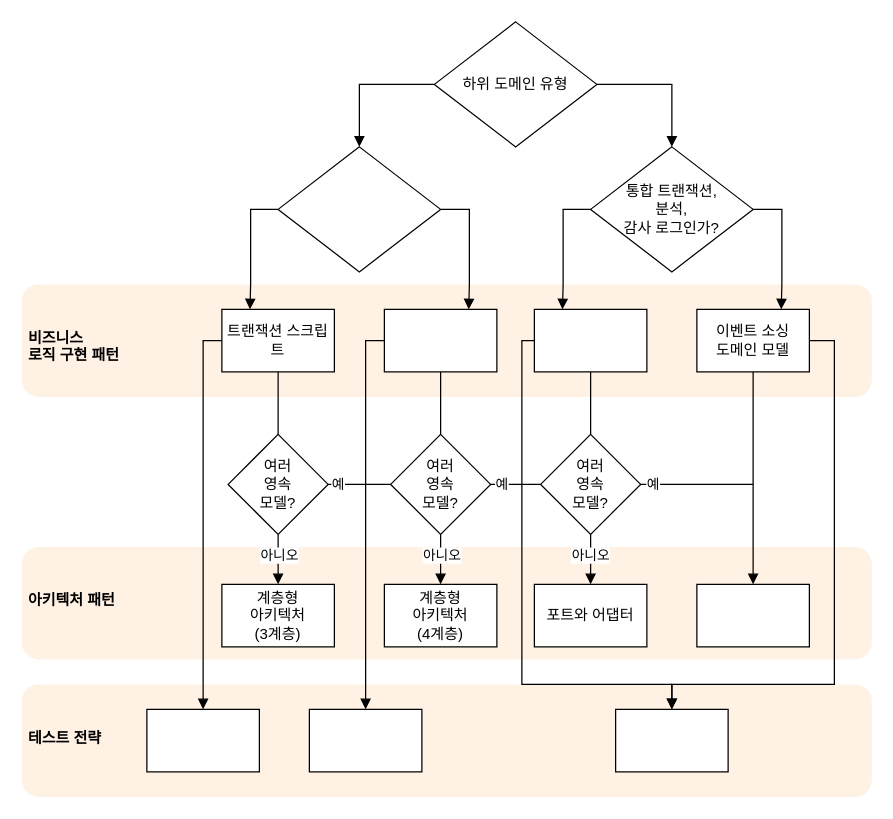
Image size: 893x819. Some labels were removed from this diagram. Each missing label, with the centre of its shape:
CQRS: point 752,615
다이아몬트형 테스트: point 365,740
도메인 모델: point 590,340
복잡한 자료 구조인가?: point 359,209
액티브 레코드: point 440,340
역피라미드형 테스트: point 202,740
피라미드형 테스트: point 671,740
